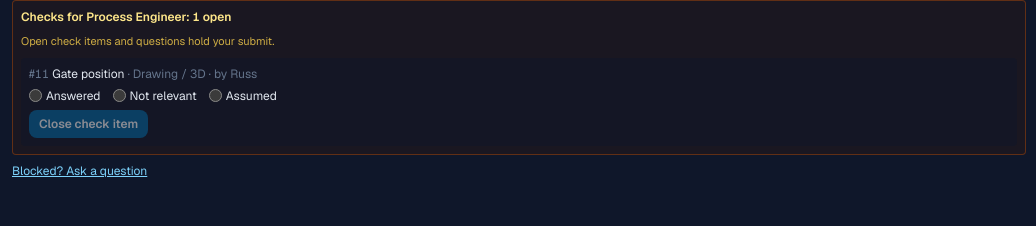
Test: AssessmentChecks (spec §4) › closes nothing without a pick and evidence, then sends value and unit
Later steps or results of the test are not shown.
Expected: the button with test id "achk-save-11" is disabled, x1=29 y1=110 x2=148 y2=138
Click the radio button with test id "achk-outcome-11-answered" at (36, 96), box x1=29 y1=89 x2=42 y2=102
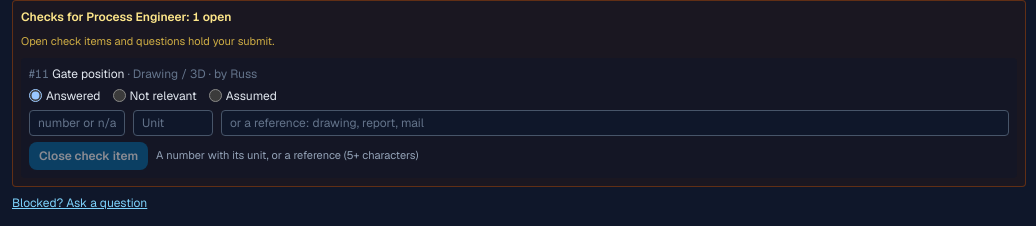
Type "2.4" into the field with test id "achk-value-11" at (77, 122), box x1=29 y1=110 x2=125 y2=136
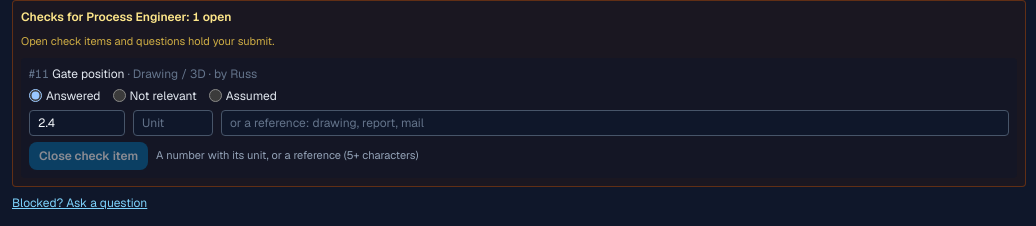
Expected: the button with test id "achk-save-11" is disabled, x1=29 y1=142 x2=148 y2=170
Type "mm" into the field with test id "achk-unit-11" at (173, 122), box x1=133 y1=110 x2=213 y2=136
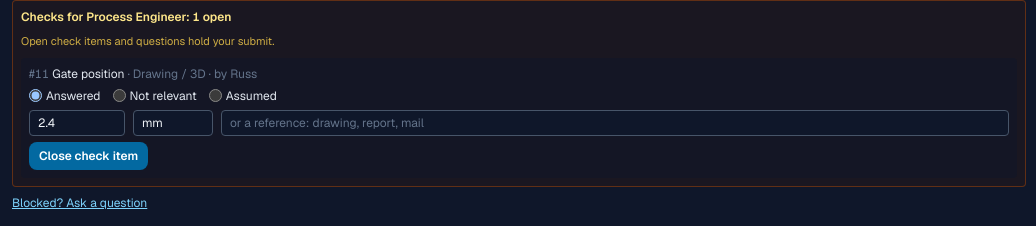
Result: the button with test id "achk-save-11" is enabled at x1=29 y1=142 x2=148 y2=170
